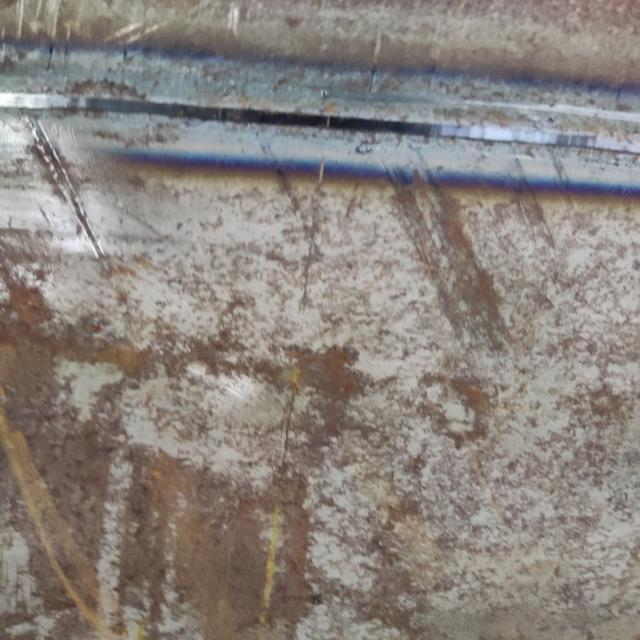seam: (0, 20, 640, 210)
